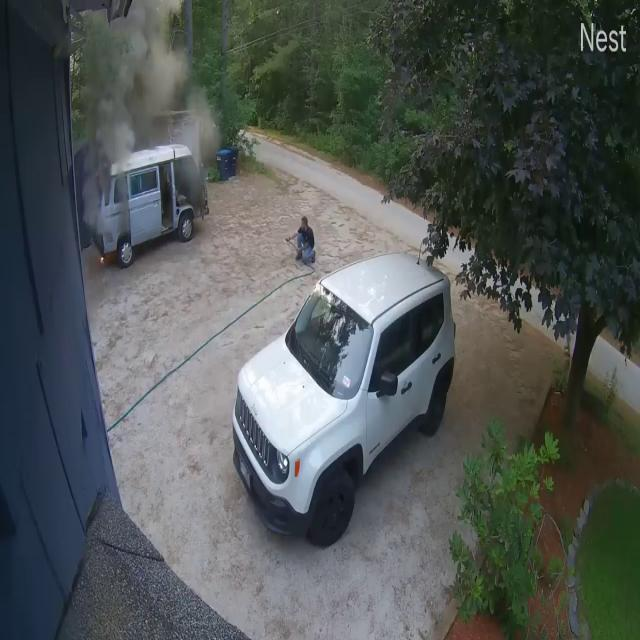Smoke: (82, 5, 216, 195)
